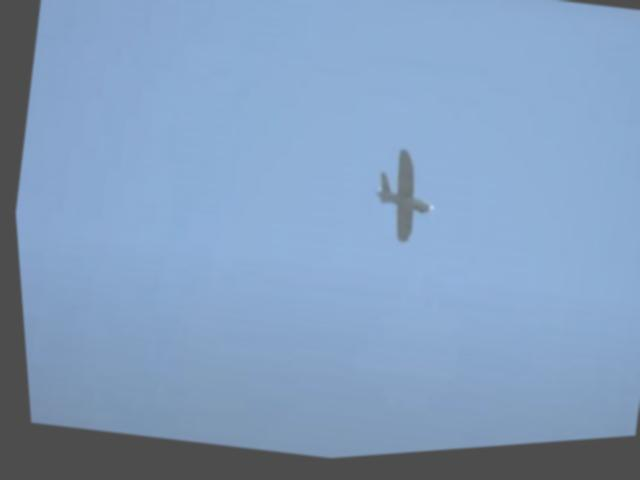iha: (358, 146, 445, 257)
